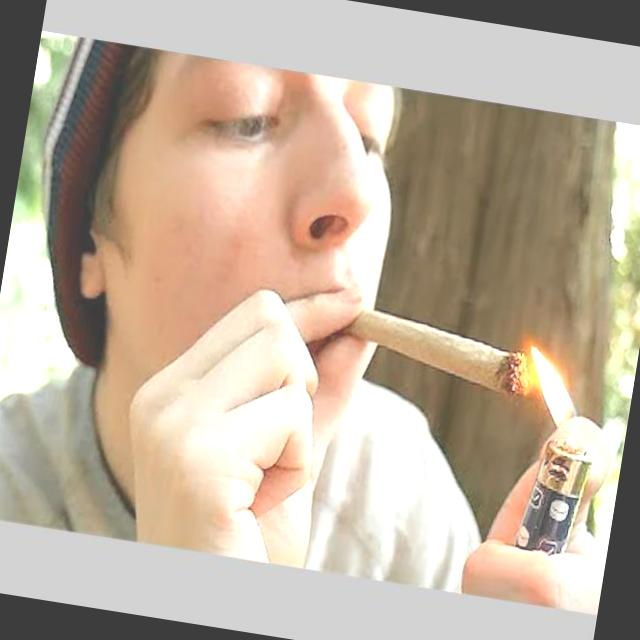smoke: (307, 267, 575, 424)
